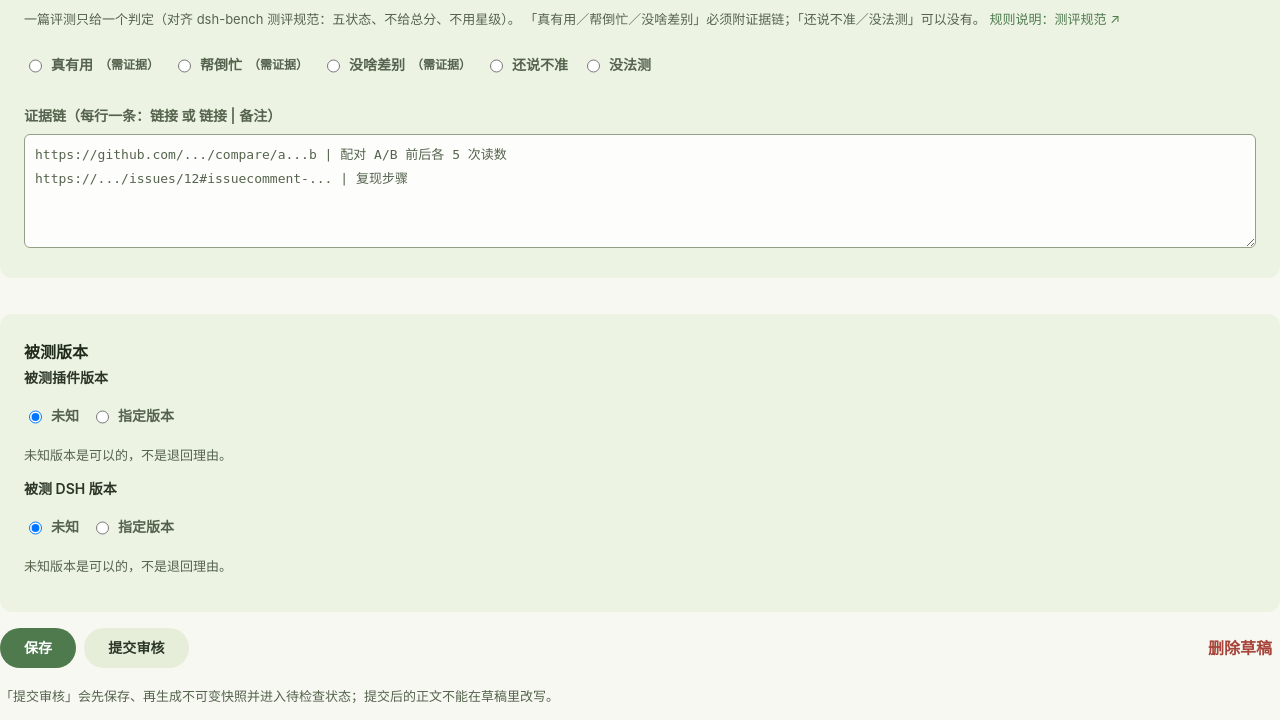
it: 评测编辑器 · 提交前测评档位必填 › 未选档位点提交：就地提示、不发保存/提交请求
(page scrolled)
Click the button "提交审核" at (136,648), box [84,628,189,668]
(page scrolled)
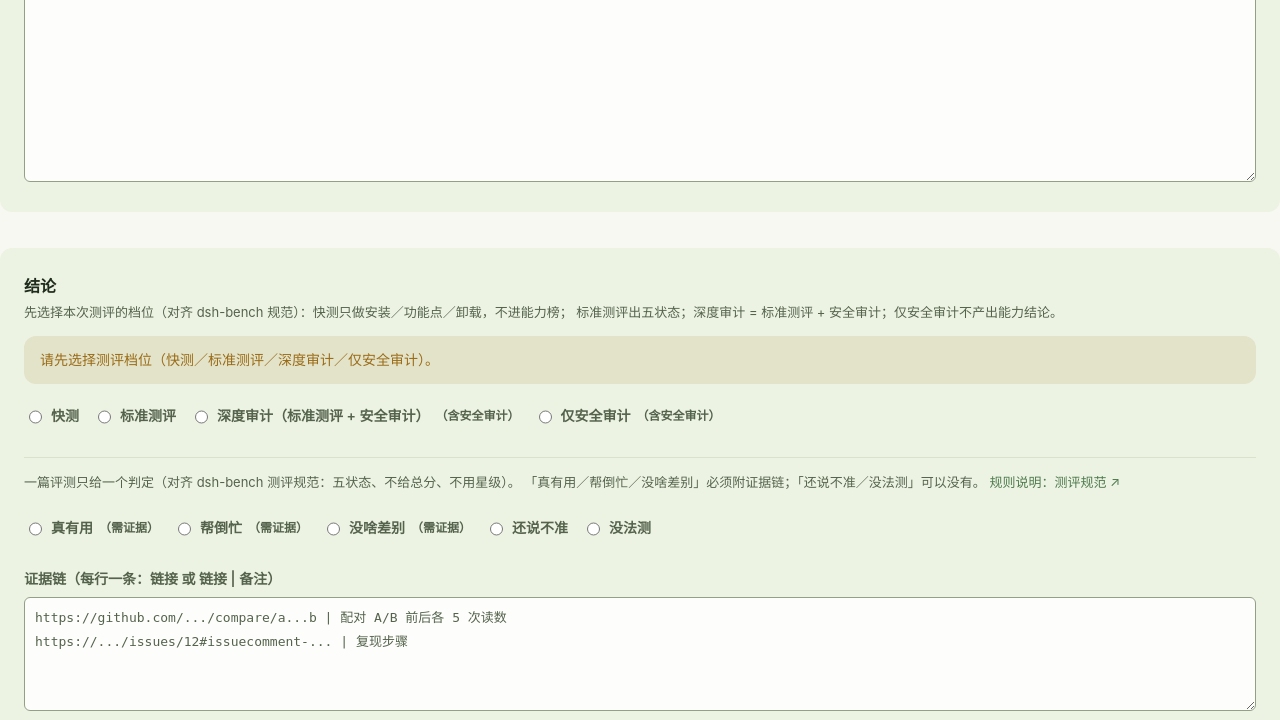
Result: the message shows "请先选择测评档位" at [40,351,439,368]
